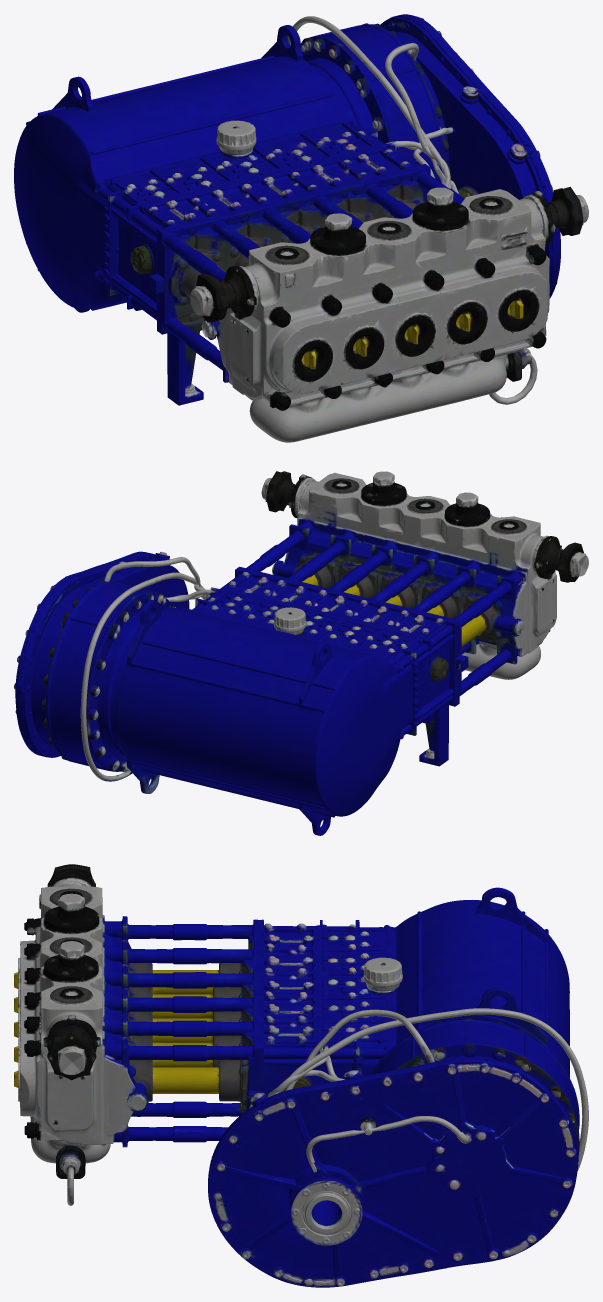
Rendered from BombaEmboloQuintuplex.glb.
3 views of the same model, one above another, from view 1: azimuth 30°, elevation 25°; view 2: azimuth 150°, elevation 25°; view 3: azimuth 270°, elevation 25° (orthographic). The views are drawn at different scales.
Visible parts, largest first — view 1: tripo_node_5fcf0bc0-fd58-440f-965e-8315e156326c; view 2: tripo_node_5fcf0bc0-fd58-440f-965e-8315e156326c; view 3: tripo_node_5fcf0bc0-fd58-440f-965e-8315e156326c.
Boxes of the visible parts, box(x1,y1,x2,y2) form: tripo_node_5fcf0bc0-fd58-440f-965e-8315e156326c: box(14, 14, 588, 442); tripo_node_5fcf0bc0-fd58-440f-965e-8315e156326c: box(14, 471, 588, 835); tripo_node_5fcf0bc0-fd58-440f-965e-8315e156326c: box(14, 864, 588, 1287).
Bounding box in the file's own units: 0.8998 × 0.473 × 0.9805.
1 material, 1 textured.
